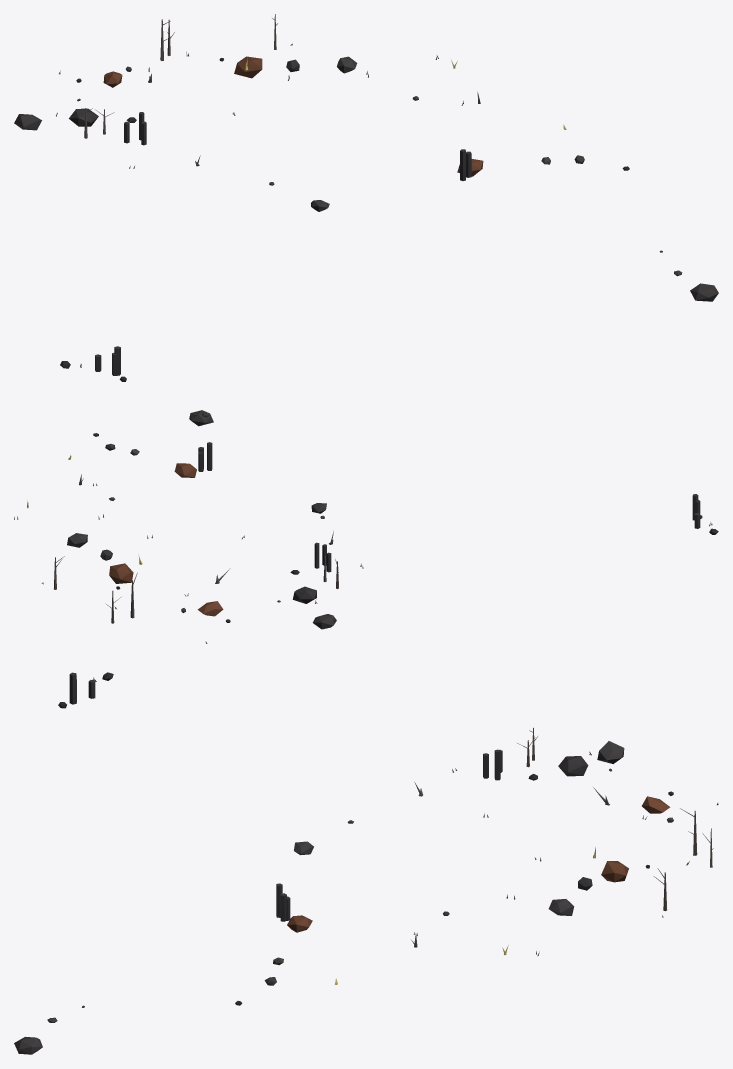
Rendered from ash_land_scatter_c20_31_lod1.glb.
3 views of the same model, one above another, from view 1: azimuth 30°, elevation 25°; view 2: azimuth 150°, elevation 25°; view 3: azimuth 270°, elevation 25° (orthographic). The views are drawn at different scales.
Parts seen in each view (by area): view 1: ash_land_scatter_c20_31_lod1; view 2: ash_land_scatter_c20_31_lod1; view 3: ash_land_scatter_c20_31_lod1.
Boxes of the visible parts, bbox=[...] form: ash_land_scatter_c20_31_lod1: bbox=[14, 14, 718, 381]; ash_land_scatter_c20_31_lod1: bbox=[14, 410, 718, 643]; ash_land_scatter_c20_31_lod1: bbox=[14, 672, 718, 1054].
Bounding box in the file's own units: 117 × 20.2 × 106.
